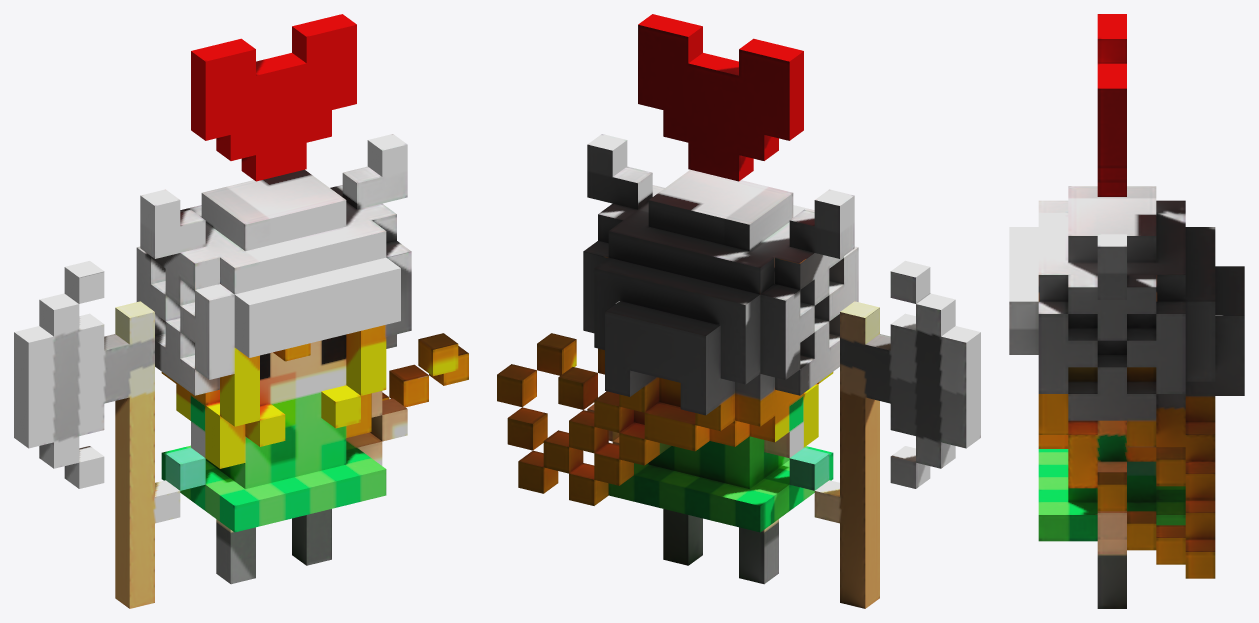
Rendered from gltfv4.glb.
3 views of the same model, side by side, from view 1: azimuth 30°, elevation 25°; view 2: azimuth 150°, elevation 25°; view 3: azimuth 270°, elevation 25° (orthographic).
Visible parts, largest first — view 1: chr_knight_with_heart; view 2: chr_knight_with_heart; view 3: chr_knight_with_heart.
Part boxes in pixels (bbox=[...]): chr_knight_with_heart: bbox=[14, 14, 468, 608]; chr_knight_with_heart: bbox=[497, 14, 980, 608]; chr_knight_with_heart: bbox=[1009, 14, 1244, 608].
Size of the model in its own units: 1.8 by 2 by 0.8.
Materials: 1 (1 with a texture image).
